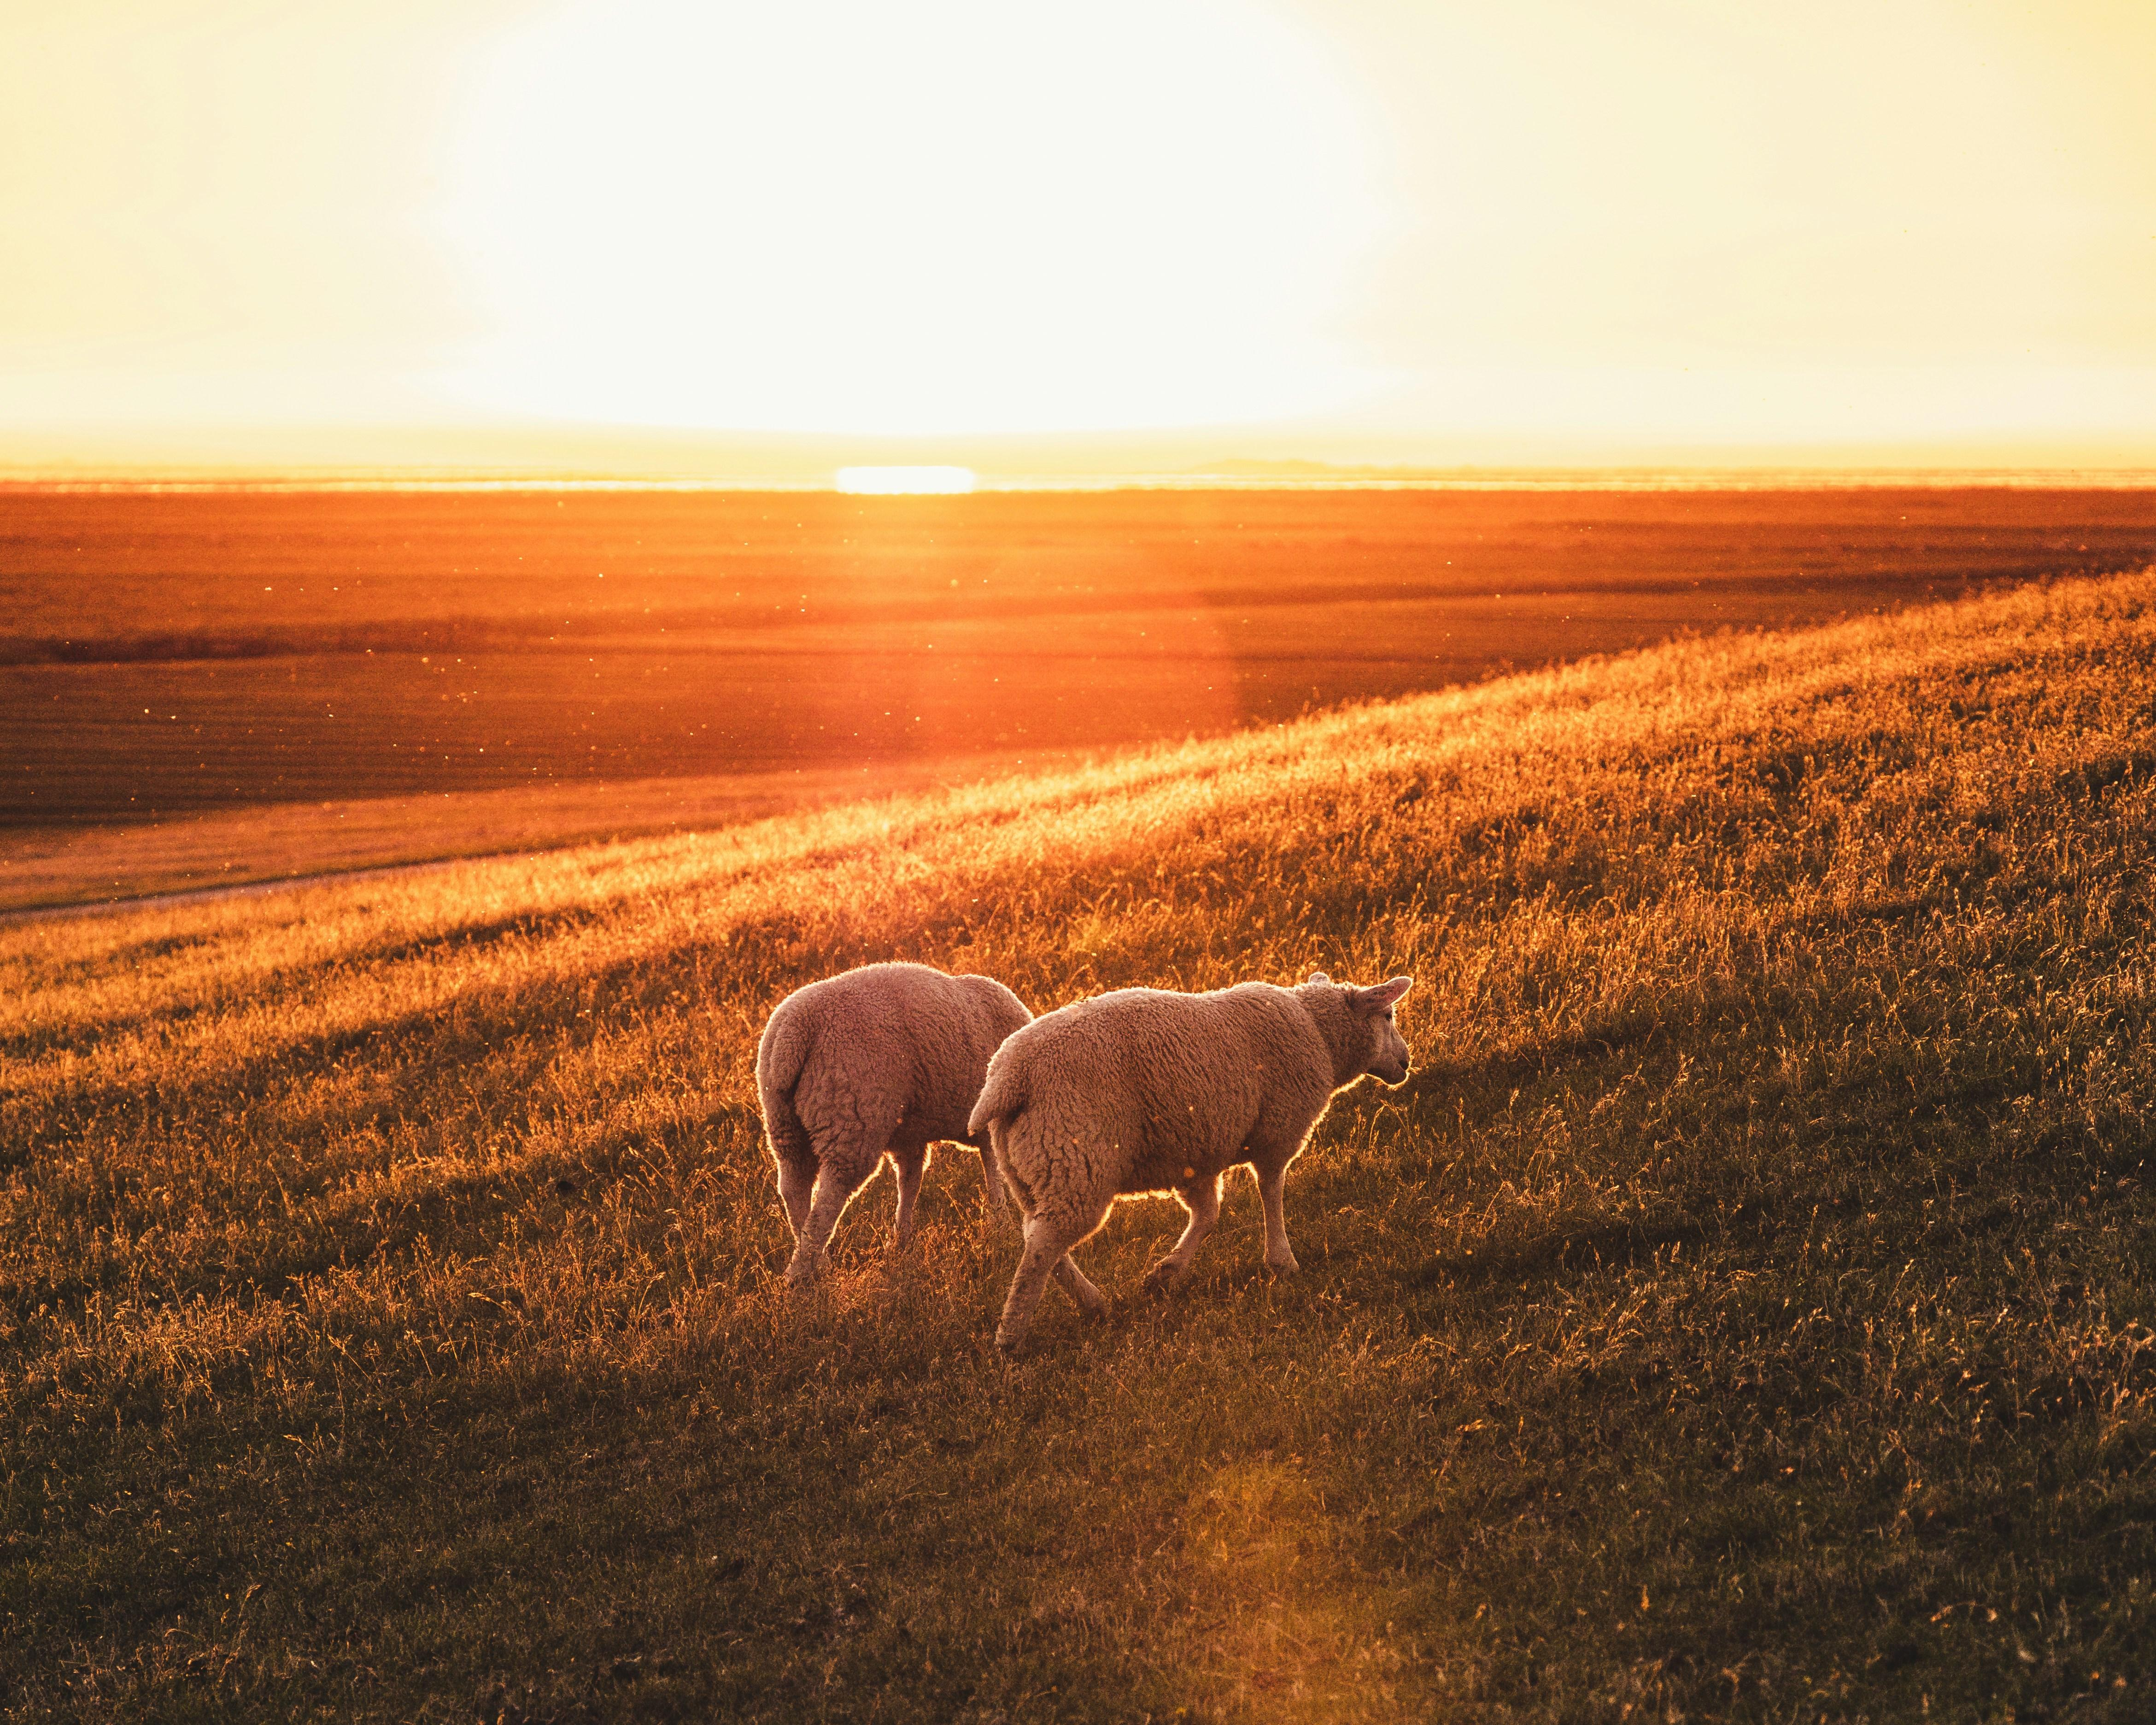sheep: (972, 977, 1412, 1348), (760, 961, 1035, 1266)
